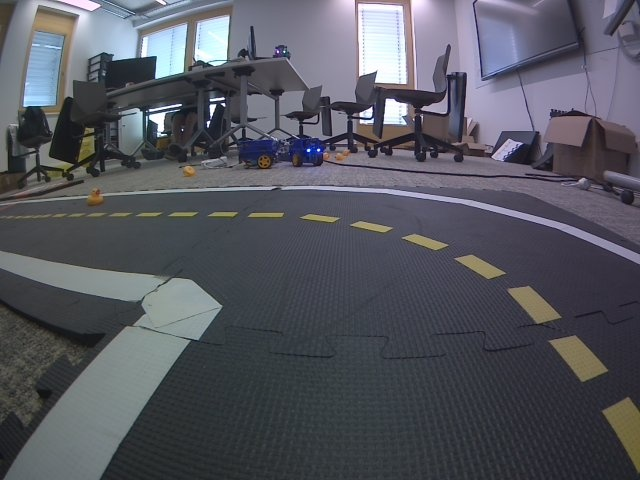Bot: (237, 139, 278, 169), (289, 137, 325, 168), (273, 44, 290, 61)
